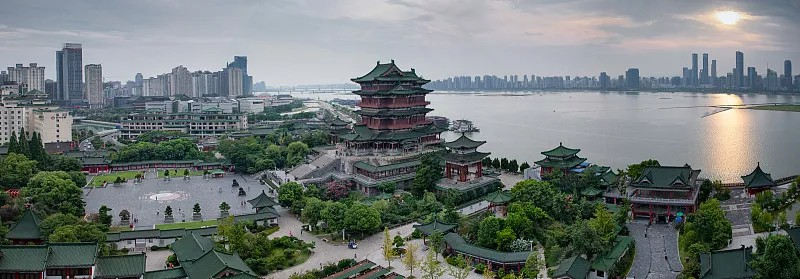Teng: (340, 60, 441, 153)
